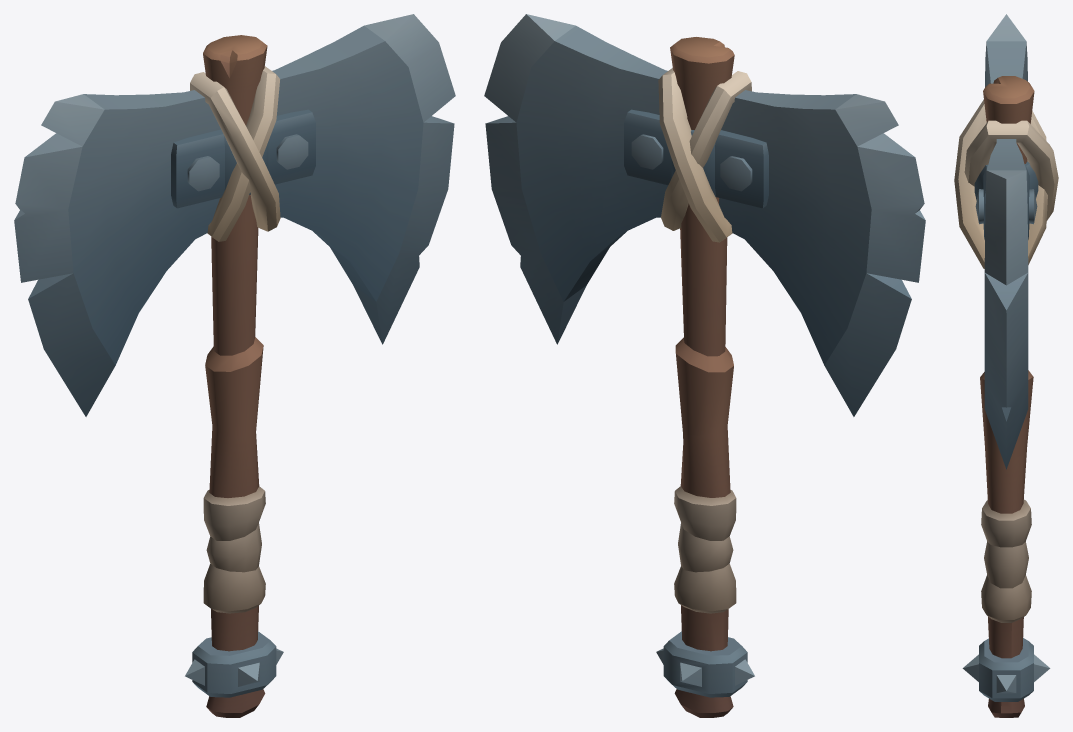
Rendered from axe_B.glb.
The picture shows the model from 3 angles, left to right: view 1: azimuth 30°, elevation 25°; view 2: azimuth 150°, elevation 25°; view 3: azimuth 270°, elevation 25°; orthographic projection. The views are drawn at different scales.
Visible parts, largest first — view 1: axe_B; view 2: axe_B; view 3: axe_B.
Boxes of the visible parts, bbox=[...] form: axe_B: bbox=[14, 14, 455, 717]; axe_B: bbox=[484, 14, 925, 717]; axe_B: bbox=[954, 14, 1058, 717].
Size of the model in its own units: 1.15 by 1.66 by 0.2504.
Materials: 1 (1 with a texture image).
